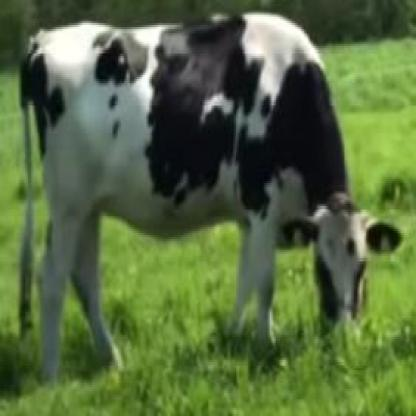cow: (19, 12, 403, 385)
